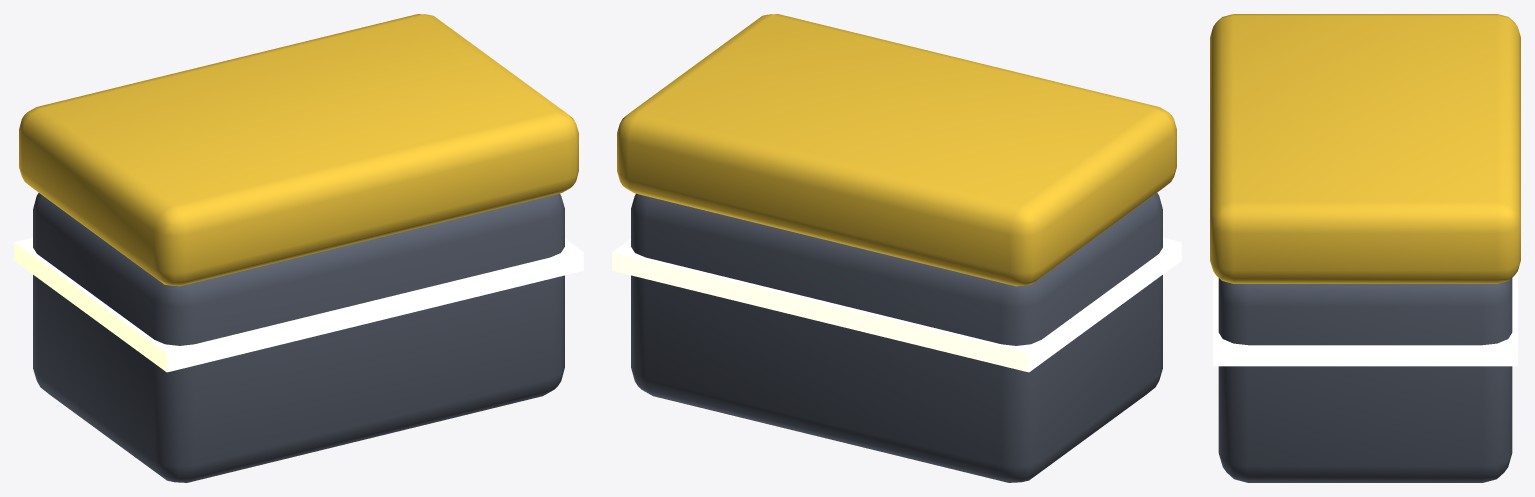
File: poi_cache.glb
The picture shows the model from 3 angles, left to right: view 1: azimuth 30°, elevation 25°; view 2: azimuth 150°, elevation 25°; view 3: azimuth 270°, elevation 25°; orthographic projection.
Visible parts, largest first — view 1: Lid, Body, Seam; view 2: Lid, Body, Seam; view 3: Lid, Body, Seam.
Boxes of the visible parts, bbox=[...] form: Lid: bbox=[19, 14, 578, 286]; Body: bbox=[33, 193, 564, 482]; Seam: bbox=[14, 237, 583, 372]; Lid: bbox=[617, 14, 1176, 286]; Body: bbox=[631, 193, 1162, 482]; Seam: bbox=[612, 237, 1181, 372]; Lid: bbox=[1210, 14, 1520, 283]; Body: bbox=[1218, 278, 1512, 482]; Seam: bbox=[1213, 271, 1517, 366].
Size of the model in its own units: 1.66 by 1.07 by 1.06.
